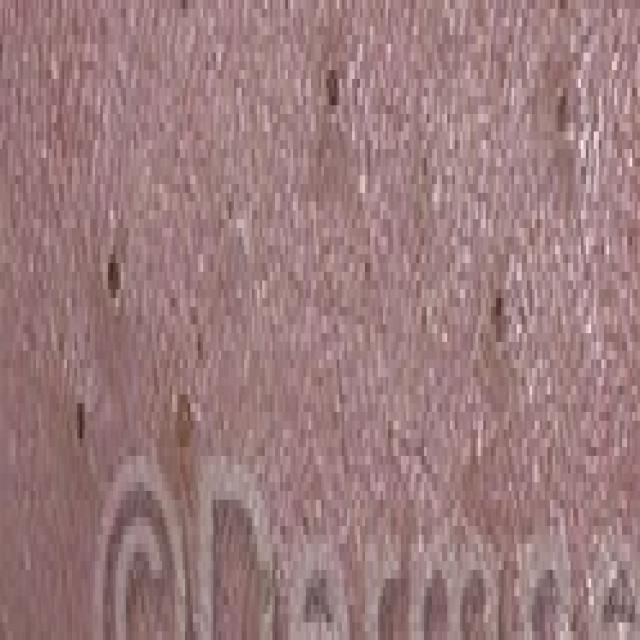blackhead: (553, 78, 571, 146), (175, 391, 193, 454), (106, 247, 120, 302), (326, 68, 340, 112), (420, 147, 431, 198), (418, 296, 429, 346), (76, 396, 86, 449), (494, 285, 504, 330), (364, 250, 372, 292), (225, 187, 235, 220), (58, 328, 66, 361), (197, 333, 204, 364), (180, 0, 189, 14)
